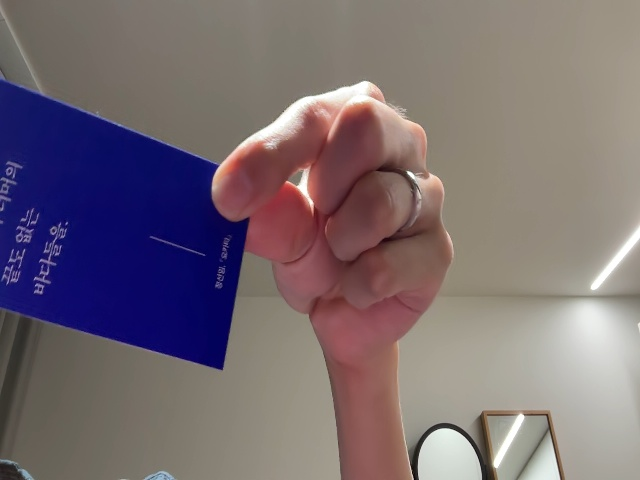card: (1, 79, 262, 370)
